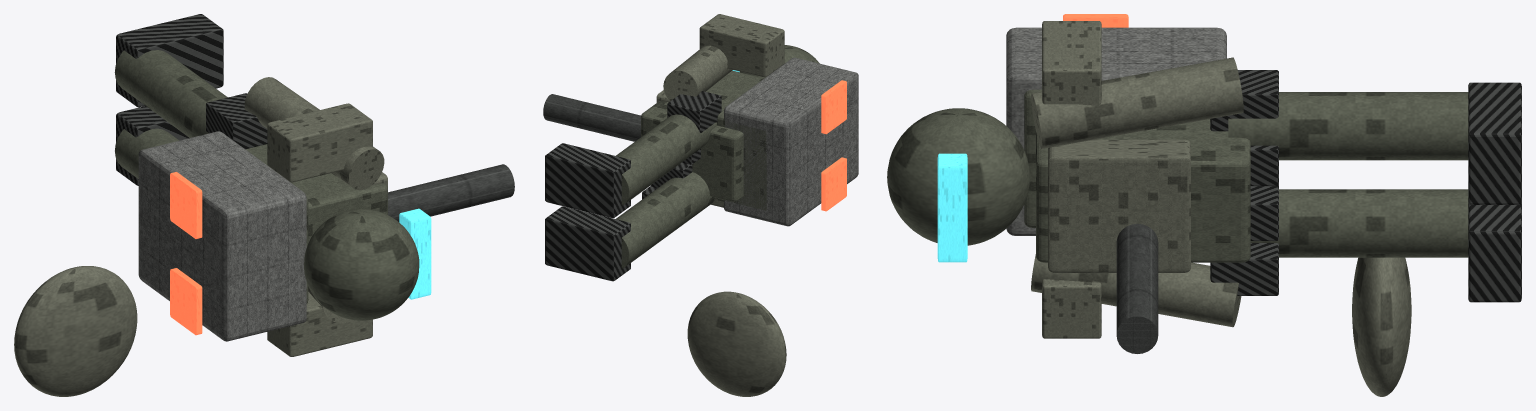
Rendered from v-u06-vanguard-combat-medic-lod0.glb.
3 renders of one model, left to right at view 1: azimuth 30°, elevation 25°; view 2: azimuth 150°, elevation 25°; view 3: azimuth 270°, elevation 25°, orthographic. The views are drawn at different scales.
Parts seen in each view (by area): view 1: medical_pack, medic_drone, soldier_0_helmet, soldier_0_shoulder_1, soldier_0_leg_1, soldier_0_boot_1, soldier_0_rifle, soldier_0_arm_1, soldier_0_torso, soldier_0_shoulder_-1, soldier_0_pouch_3, medical_cross_-1 (+4 smaller); view 2: medical_pack, medic_drone, soldier_0_boot_-1, soldier_0_boot_1, soldier_0_torso, soldier_0_leg_-1, soldier_0_leg_1, soldier_0_shoulder_1, soldier_0_rifle, soldier_0_arm_1, soldier_0_backpack, soldier_0_pouch_3 (+4 smaller); view 3: soldier_0_chest, soldier_0_leg_1, soldier_0_leg_-1, soldier_0_helmet, soldier_0_arm_1, soldier_0_torso, medical_pack, medic_drone, soldier_0_boot_1, soldier_0_boot_-1, soldier_0_arm_-1, soldier_0_rifle (+9 smaller).
Boxes of the visible parts, <box> form: medical_pack: <box>138,131,306,341</box>; medic_drone: <box>14,266,137,396</box>; soldier_0_helmet: <box>304,209,419,320</box>; soldier_0_shoulder_1: <box>267,103,372,182</box>; soldier_0_leg_1: <box>114,50,227,137</box>; soldier_0_boot_1: <box>116,14,223,107</box>; soldier_0_rifle: <box>388,164,514,221</box>; soldier_0_arm_1: <box>244,77,384,190</box>; soldier_0_torso: <box>245,144,387,242</box>; soldier_0_shoulder_-1: <box>267,292,372,356</box>; soldier_0_pouch_3: <box>206,93,267,149</box>; medical_cross_-1: <box>170,268,202,335</box>; medical_pack: <box>724,57,858,226</box>; medic_drone: <box>687,291,786,396</box>; soldier_0_boot_-1: <box>545,206,630,281</box>; soldier_0_boot_1: <box>545,143,630,218</box>; soldier_0_torso: <box>641,70,763,201</box>; soldier_0_leg_-1: <box>616,172,715,268</box>; soldier_0_leg_1: <box>616,114,716,205</box>; soldier_0_shoulder_1: <box>699,14,784,77</box>; soldier_0_rifle: <box>543,94,640,141</box>; soldier_0_arm_1: <box>663,45,732,100</box>; soldier_0_backpack: <box>717,110,766,210</box>; soldier_0_pouch_3: <box>667,91,721,132</box>; soldier_0_chest: <box>1048,139,1190,272</box>; soldier_0_leg_1: <box>1228,92,1468,160</box>; soldier_0_leg_-1: <box>1250,189,1468,257</box>; soldier_0_helmet: <box>887,108,1029,245</box>; soldier_0_arm_1: <box>1031,57,1243,148</box>; soldier_0_torso: <box>1036,119,1250,262</box>; medical_pack: <box>1006,27,1226,235</box>; medic_drone: <box>1352,257,1411,396</box>; soldier_0_boot_1: <box>1468,82,1521,204</box>; soldier_0_boot_-1: <box>1468,201,1521,302</box>; soldier_0_arm_-1: <box>1031,254,1241,327</box>; soldier_0_rifle: <box>1116,223,1158,353</box>.
Size of what is drawn, in the model's own units: 1.88 by 1.54 by 2.13.
7 materials, 7 textured.
